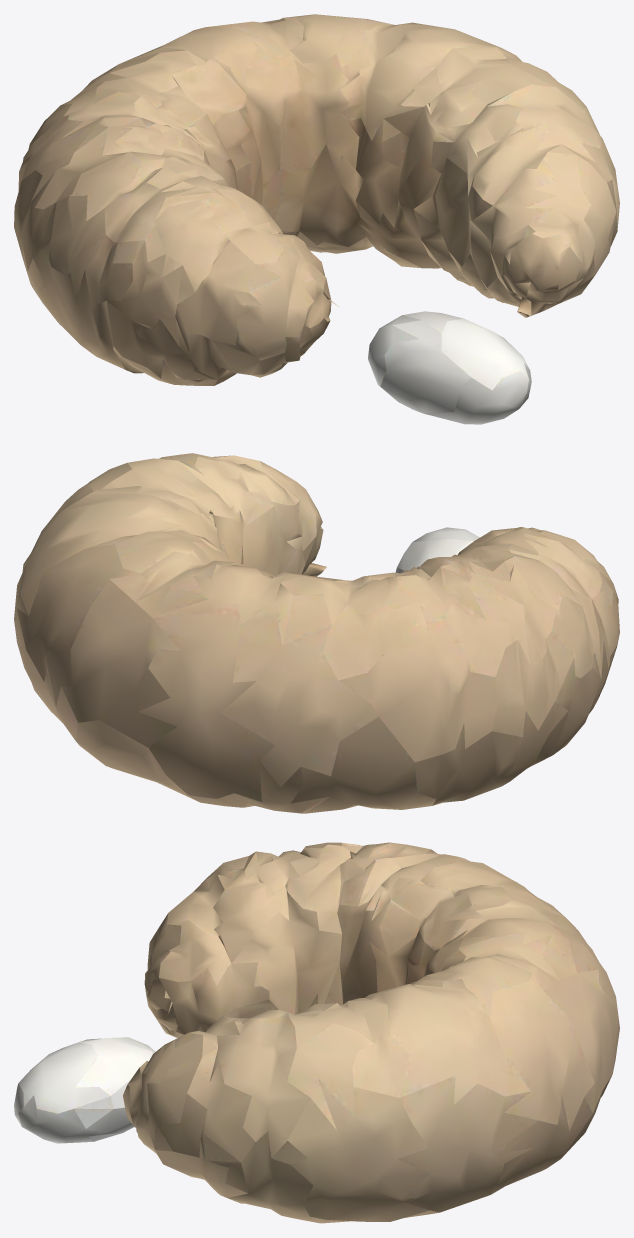
The model's file is larva.glb.
The picture shows the model from 3 angles, top to bottom: view 1: azimuth 30°, elevation 25°; view 2: azimuth 150°, elevation 25°; view 3: azimuth 270°, elevation 25°; orthographic projection. The views are drawn at different scales.
Parts seen in each view (by area): view 1: output_unwrapped; view 2: output_unwrapped; view 3: output_unwrapped.
Part boxes in pixels (x1=…): output_unwrapped: x1=14, y1=14, x2=619, y2=424; output_unwrapped: x1=14, y1=453, x2=619, y2=813; output_unwrapped: x1=14, y1=842, x2=619, y2=1223.
Size of the model in its own units: 1.83 by 0.7359 by 1.9.
Materials: 1 (1 with a texture image).
